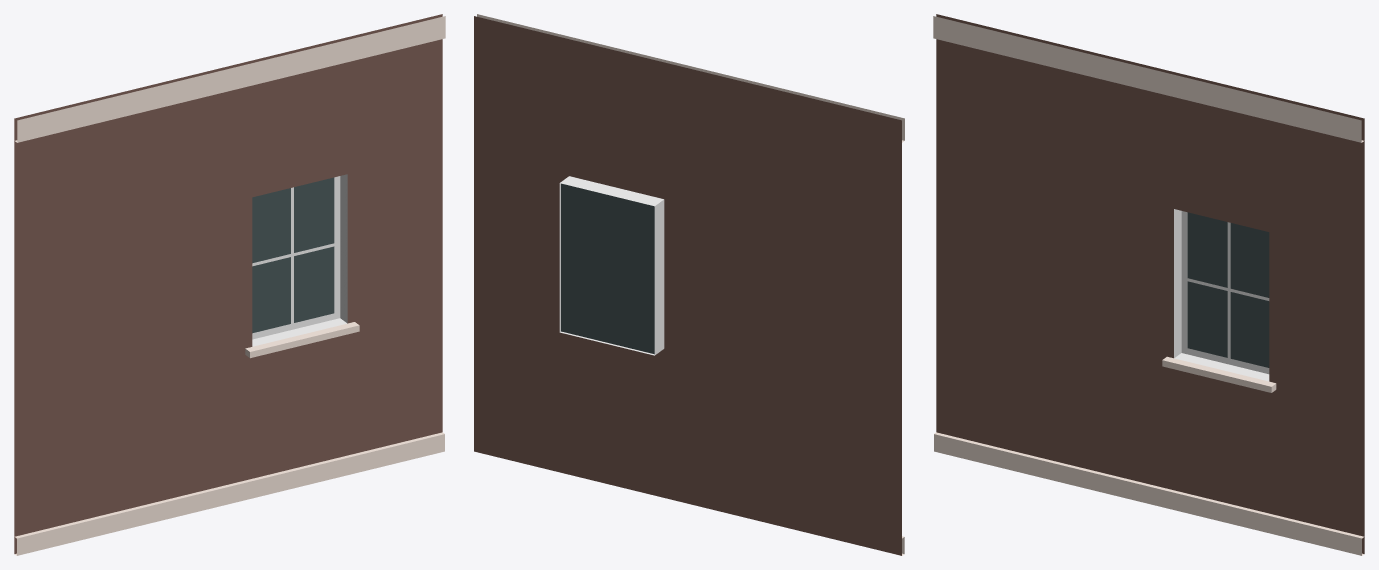
File: top-w2.fbx
3 views of the same model, side by side, from view 1: azimuth 30°, elevation 25°; view 2: azimuth 150°, elevation 25°; view 3: azimuth 330°, elevation 25° (orthographic).
Visible parts, largest first — view 1: a2000s3/600/top-w2; view 2: a2000s3/600/top-w2; view 3: a2000s3/600/top-w2.
Part boxes in pixels (<box>): a2000s3/600/top-w2: <box>14,14,445,555</box>; a2000s3/600/top-w2: <box>474,14,904,555</box>; a2000s3/600/top-w2: <box>933,14,1364,555</box>.
Size of the model in its own units: 3.6 by 3.5 by 0.21.
